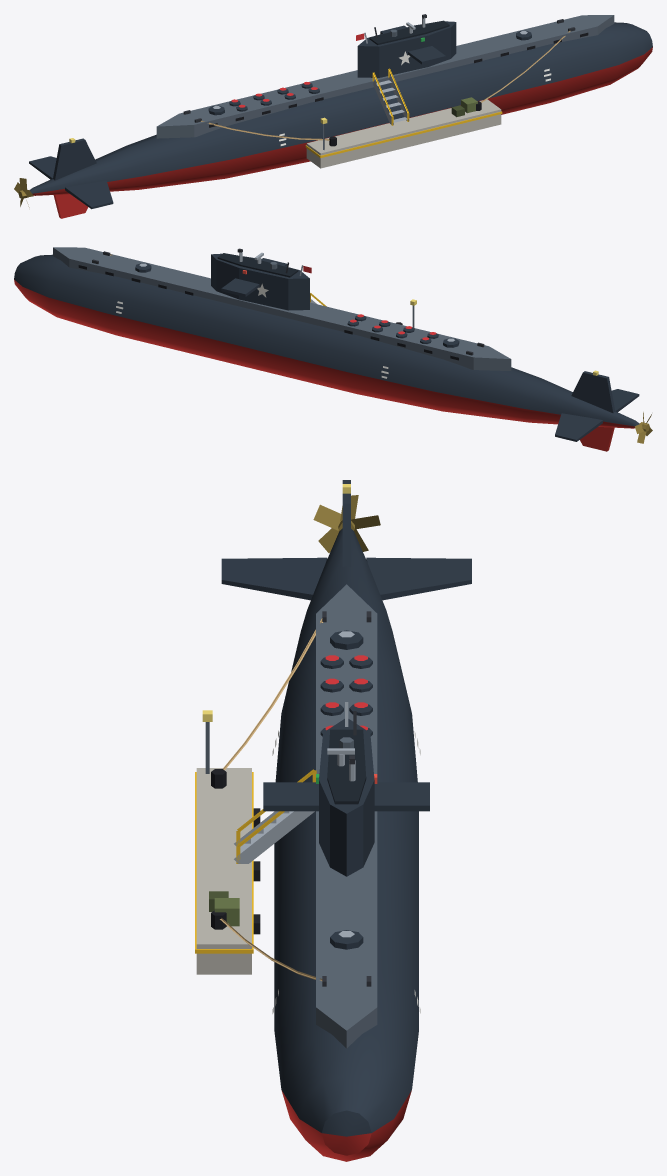
The model's file is submarine.glb.
The picture shows the model from 3 angles, top to bottom: view 1: azimuth 30°, elevation 25°; view 2: azimuth 150°, elevation 25°; view 3: azimuth 270°, elevation 25°; orthographic projection. The views are drawn at different scales.
Parts seen in each view (by area): view 1: Body; view 2: Body; view 3: Body.
Boxes of the visible parts, x1,y1,x2,y2 form: Body: (14,14,652,218); Body: (14,247,652,451); Body: (195,480,471,1161).
Bounding box in the file's own units: 5.23 × 0.896 × 0.995.
